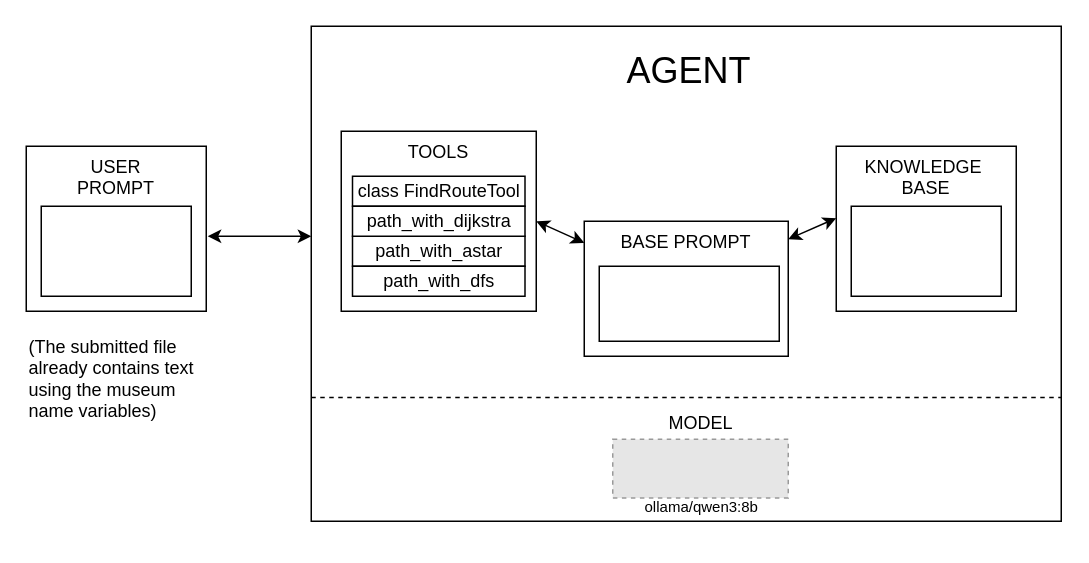
Image size: 1089x563. Some labels were removed from this diagram. Grey dashed boxes stand in for pictures. Each missing label, with the centre of its shape:
"How can I go from m1 to m2?": point 115,250
("This tool must be used ...") e ("return 'The shortest ...'"): point 688,303
City map (as graph) with its point information.: point 925,250
